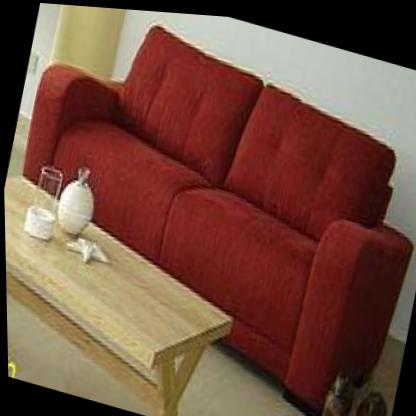Sofa: (0, 0, 416, 416)
Table: (3, 168, 250, 416)
